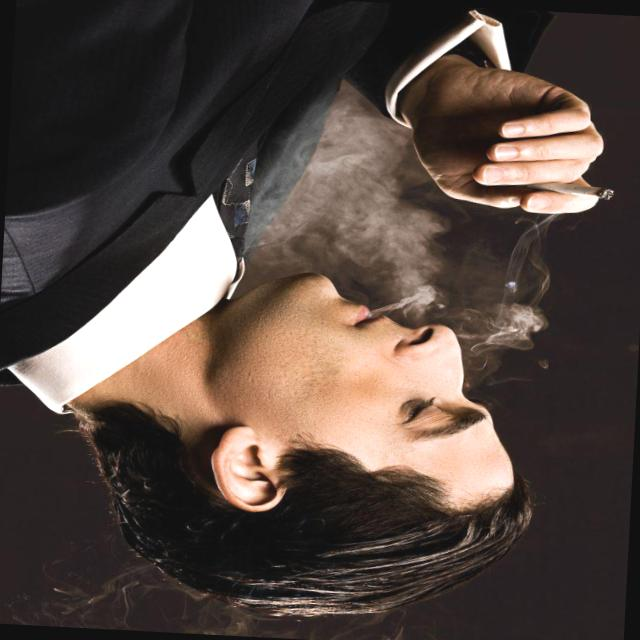smoke: (514, 161, 622, 224)
